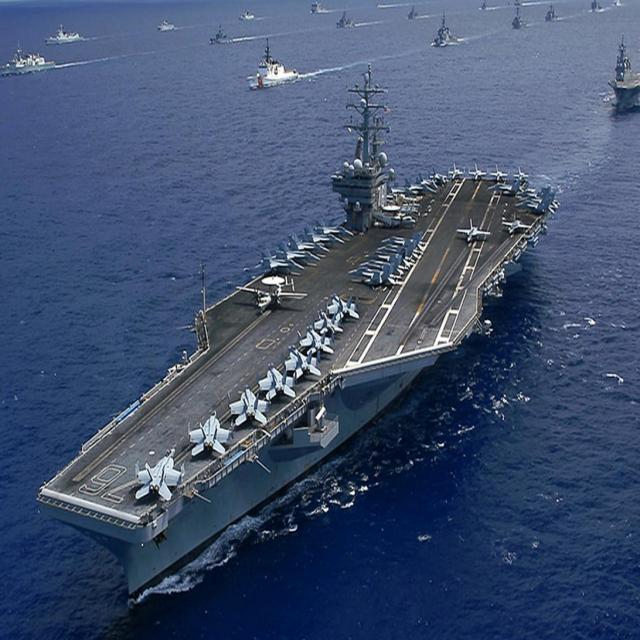Portanaves: (32, 63, 574, 621), (601, 37, 640, 115)
